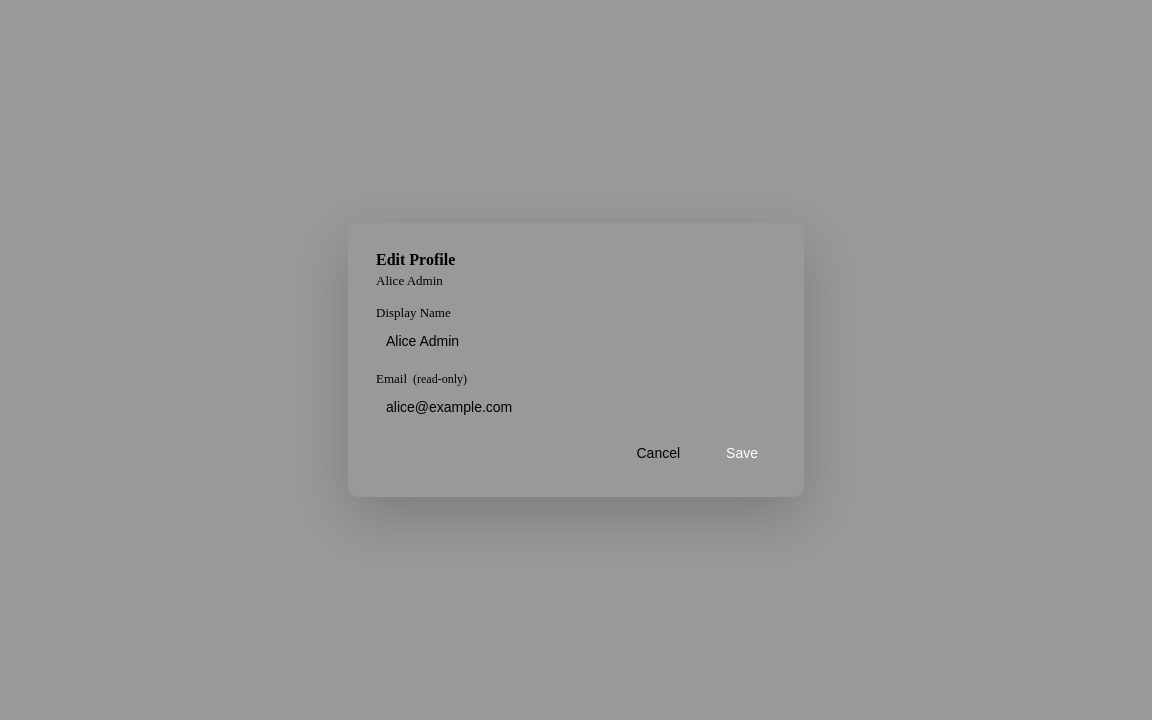
it: EditProfileModal — error banner › shows fallback message for non-Error rejections
Click the button "Save" at (742, 453), box [708, 437, 776, 469]
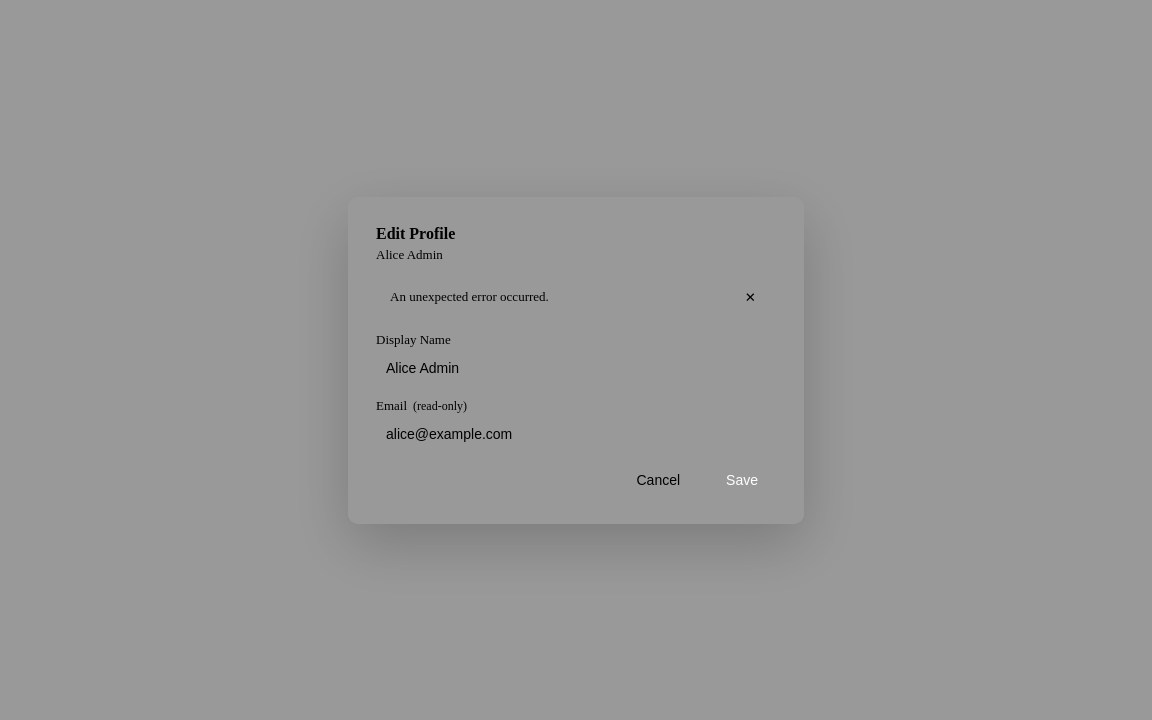
expect the text "An unexpected error occurred." is shown: met, box [390, 289, 549, 305]
